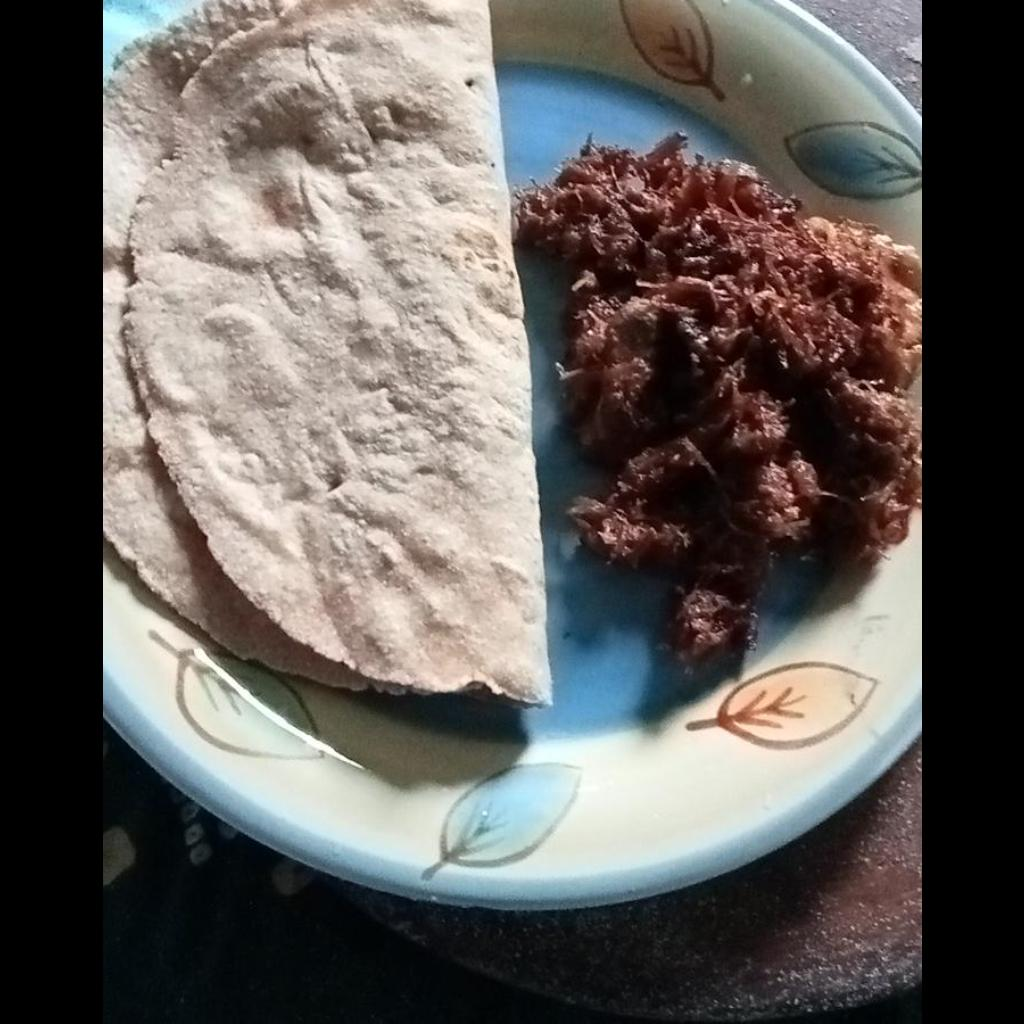beef: (515, 132, 920, 654)
ruti: (102, 1, 549, 703)
